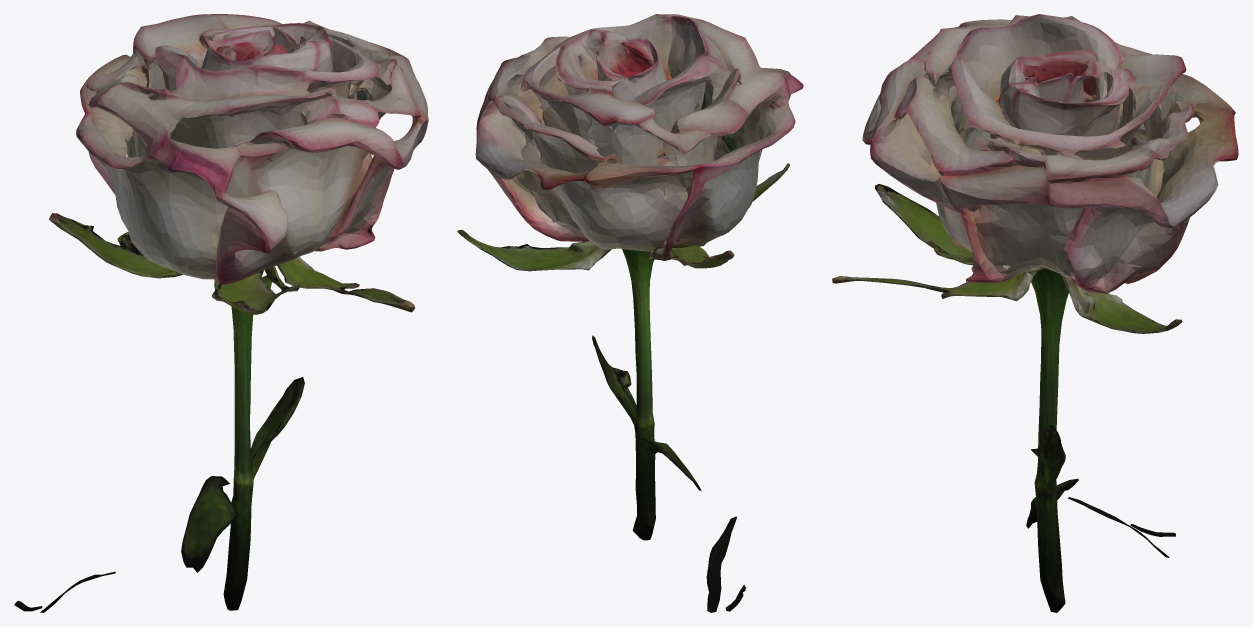
The picture shows the model from 3 angles, left to right: view 1: azimuth 30°, elevation 25°; view 2: azimuth 150°, elevation 25°; view 3: azimuth 270°, elevation 25°; orthographic projection. The views are drawn at different scales.
Parts seen in each view (by area): view 1: world; view 2: world; view 3: world.
Part boxes in pixels (x1,y1,x2,y2): world: [14, 14, 428, 612]; world: [457, 14, 803, 612]; world: [832, 14, 1238, 612].
Bounding box in the file's own units: 0.5873 × 0.9904 × 0.6233.
Materials: 1 (1 with a texture image).
